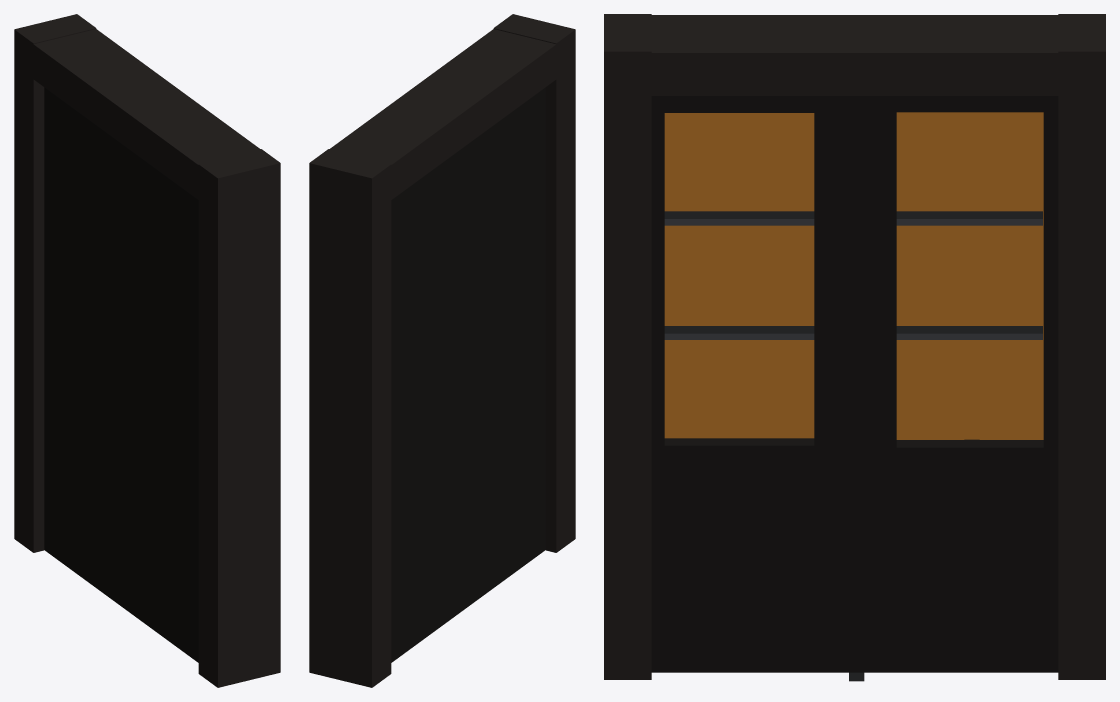
The model's file is Balconydoor.fbx.
The picture shows the model from 3 angles, left to right: view 1: azimuth 30°, elevation 25°; view 2: azimuth 150°, elevation 25°; view 3: azimuth 270°, elevation 25°; orthographic projection. The views are drawn at different scales.
Parts seen in each view (by area): view 1: Cube.009, Cube.010; view 2: Cube.009, Cube.010; view 3: Cube.010, Cube.009, Cube.012, Cube.011.
Part boxes in pixels (x1,y1,x2,y2): Cube.009: (14, 14, 280, 687); Cube.010: (44, 87, 198, 662); Cube.009: (309, 14, 575, 687); Cube.010: (391, 87, 545, 662); Cube.010: (651, 96, 1058, 672); Cube.009: (604, 14, 1105, 679); Cube.012: (664, 112, 1043, 439); Cube.011: (664, 211, 1042, 681).
Bounding box in the file's own units: 15.96 × 126 × 89.51.
